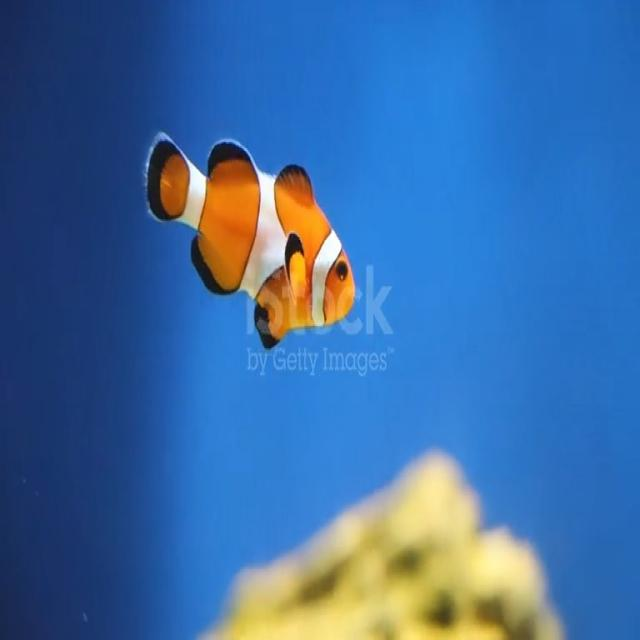fish: (141, 121, 358, 352)
